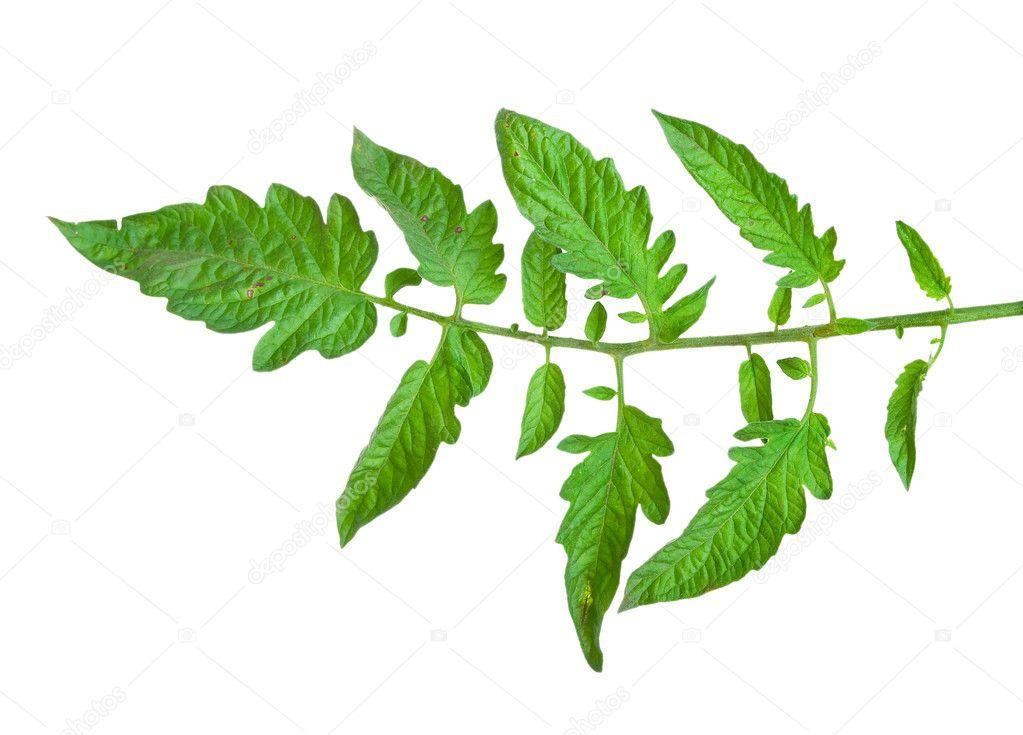Tomato leaf bacterial spot: (41, 177, 388, 378), (479, 100, 706, 339), (624, 395, 832, 616), (646, 103, 846, 315), (318, 335, 474, 548), (341, 137, 516, 322), (562, 396, 662, 685)
